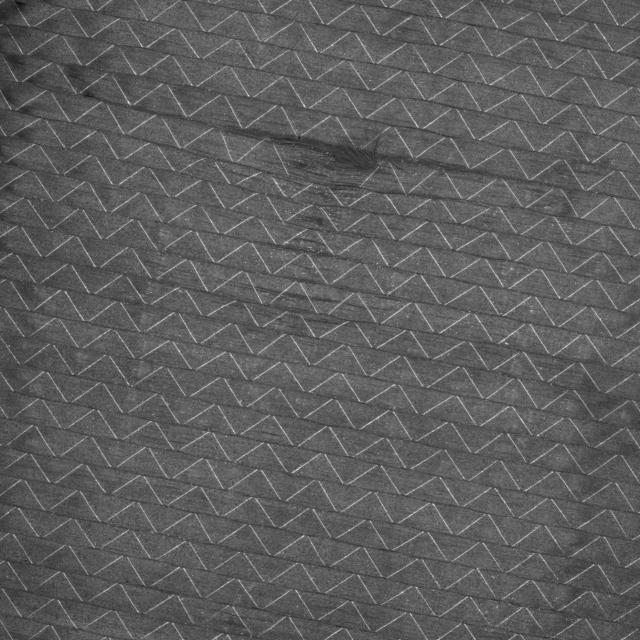carbon-fibre-defect: (190, 119, 445, 224), (263, 249, 336, 341), (274, 199, 343, 252)
